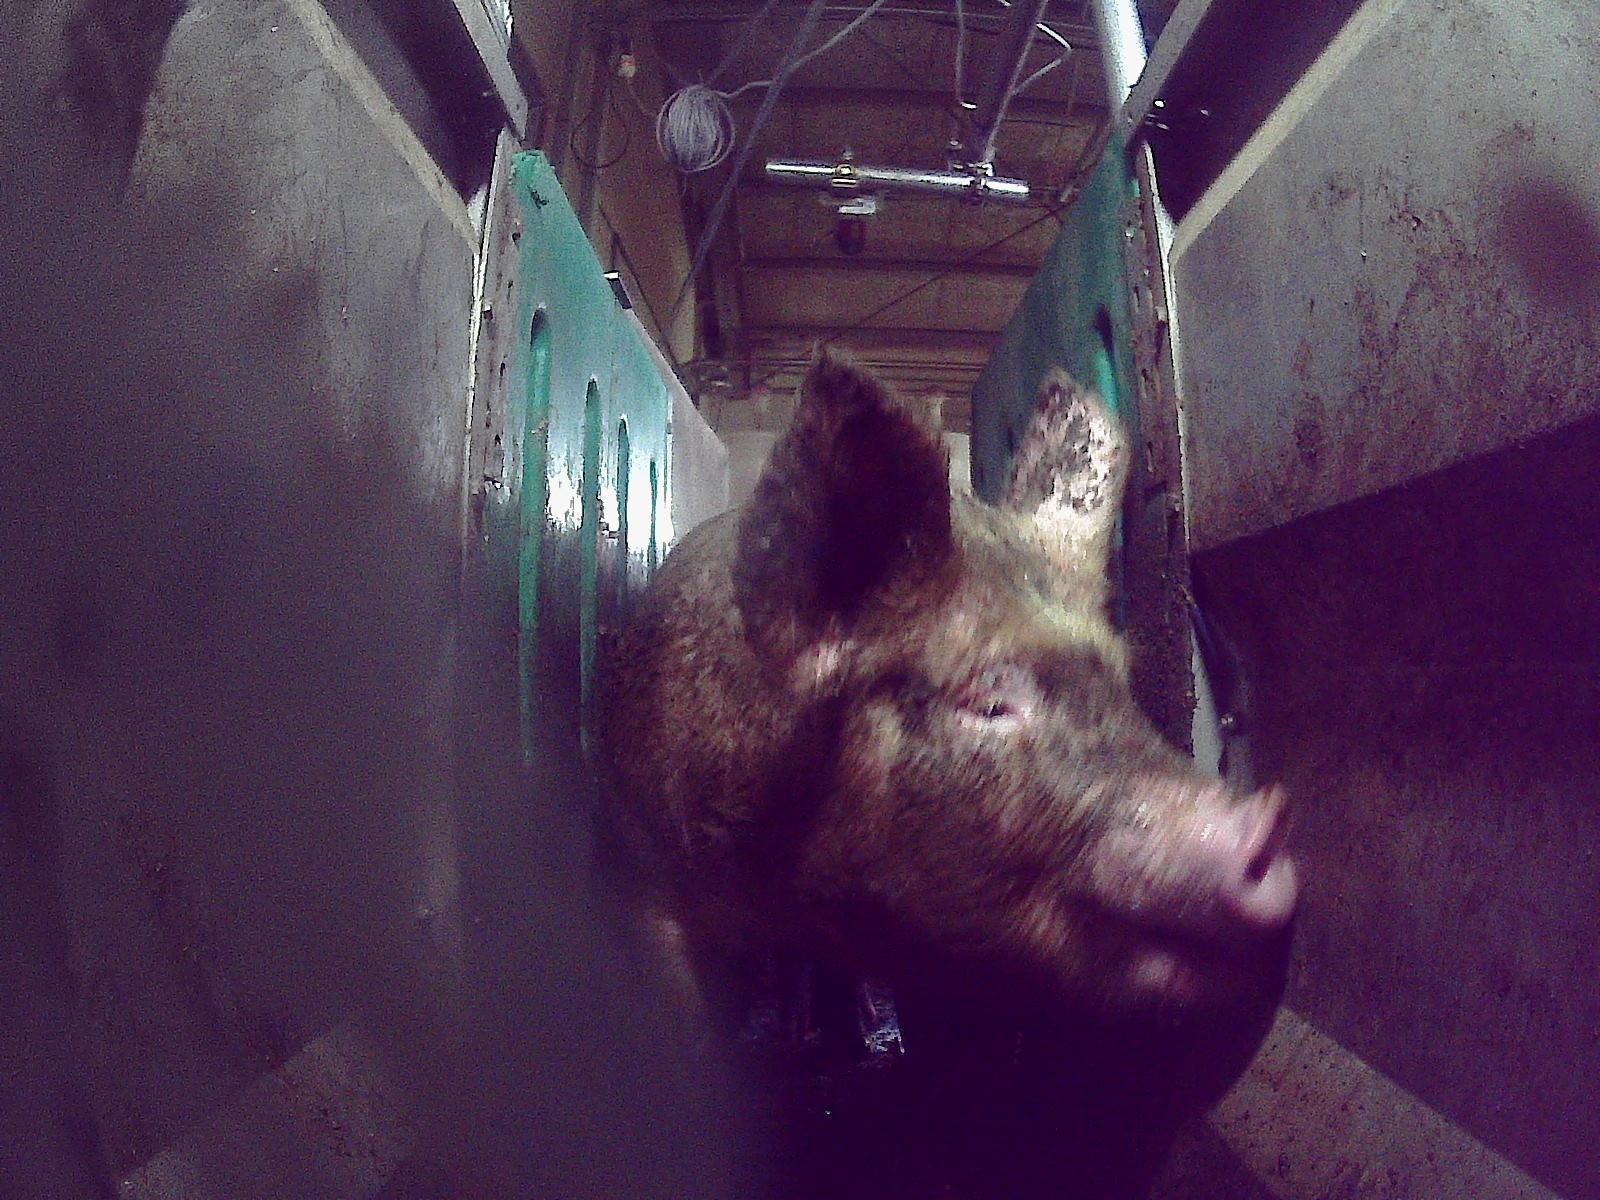Face: (760, 502, 1299, 1013)
